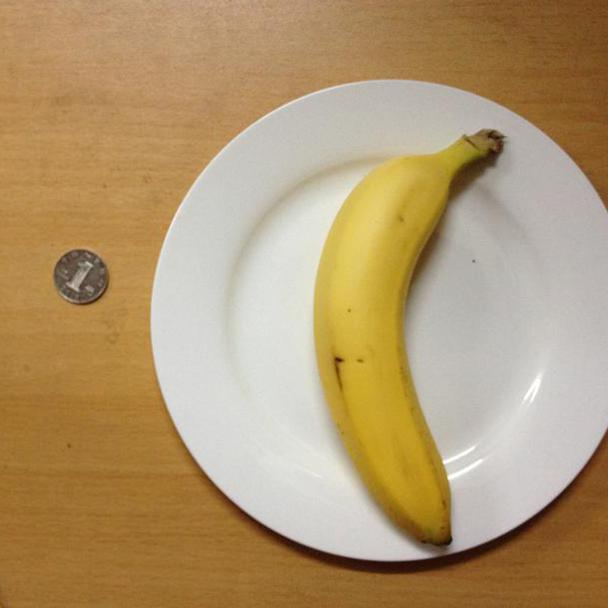banana: (309, 135, 491, 548)
